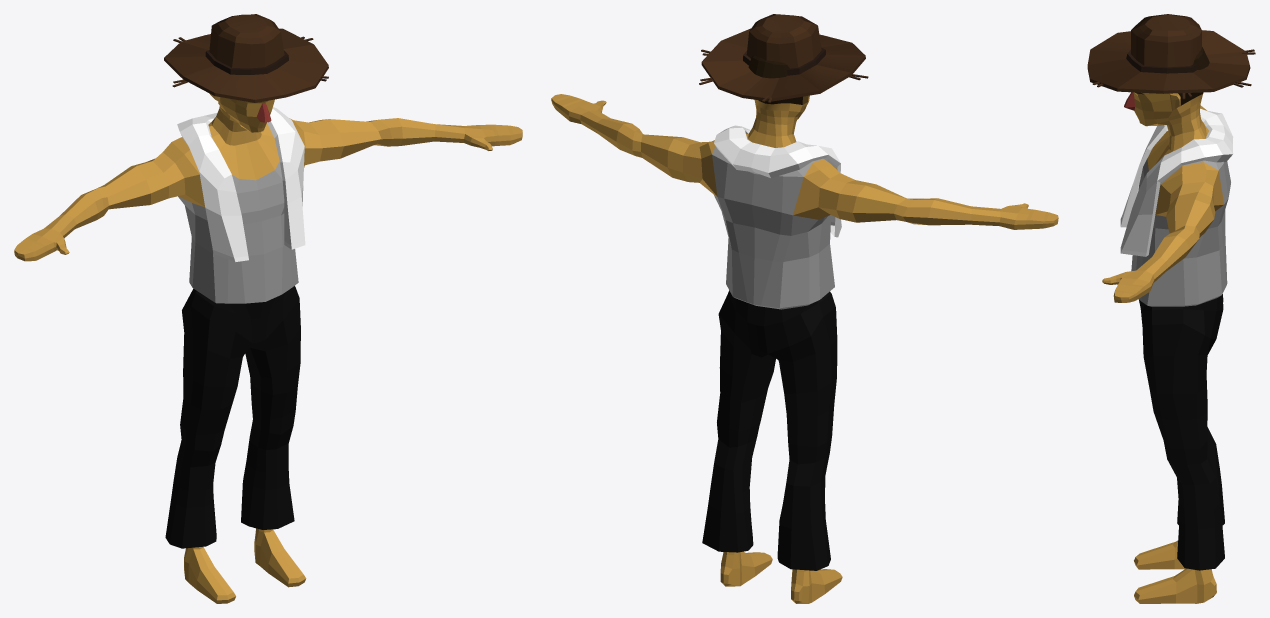
Rendered from Char_KarungGuni.FBX.
The picture shows the model from 3 angles, left to right: view 1: azimuth 30°, elevation 25°; view 2: azimuth 150°, elevation 25°; view 3: azimuth 270°, elevation 25°; orthographic projection.
Visible parts, largest first — view 1: Char_KarungGuni, Char_Hat; view 2: Char_KarungGuni, Char_Hat; view 3: Char_KarungGuni, Char_Hat.
Part boxes in pixels (x1,y1,x2,y2): Char_KarungGuni: [14, 93, 522, 603]; Char_Hat: [164, 14, 328, 102]; Char_KarungGuni: [551, 55, 1058, 603]; Char_Hat: [699, 14, 868, 103]; Char_KarungGuni: [1102, 47, 1233, 603]; Char_Hat: [1087, 14, 1255, 99].
Bounding box in the file's own units: 174 × 185 × 50.33.
